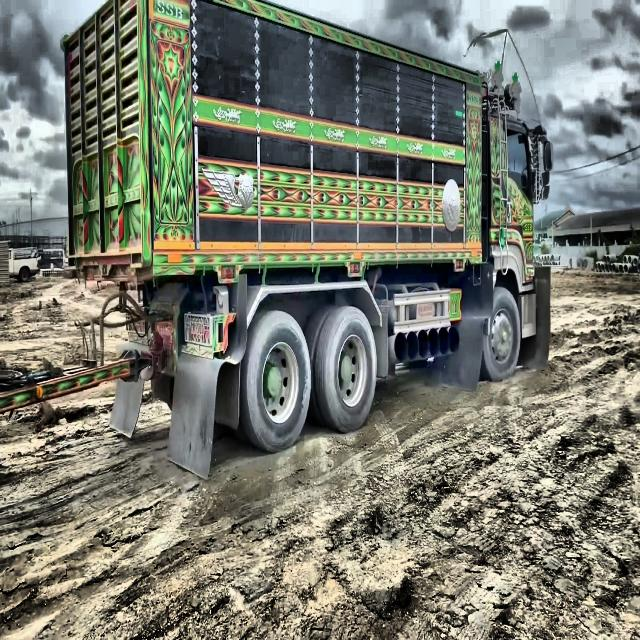trailer: (0, 0, 538, 455)
